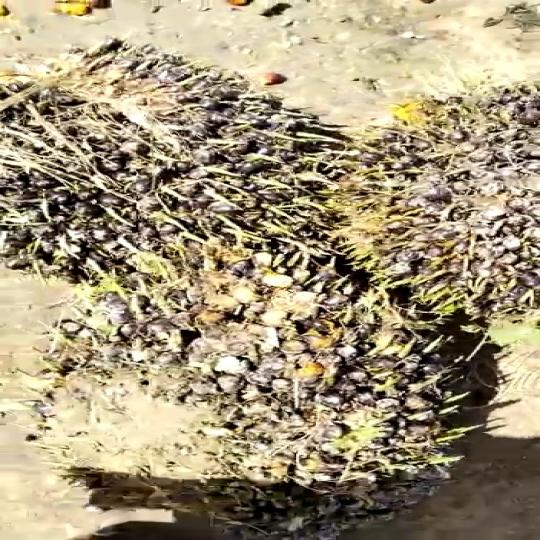mentah: (35, 268, 489, 537), (0, 42, 354, 280), (285, 84, 540, 324)
